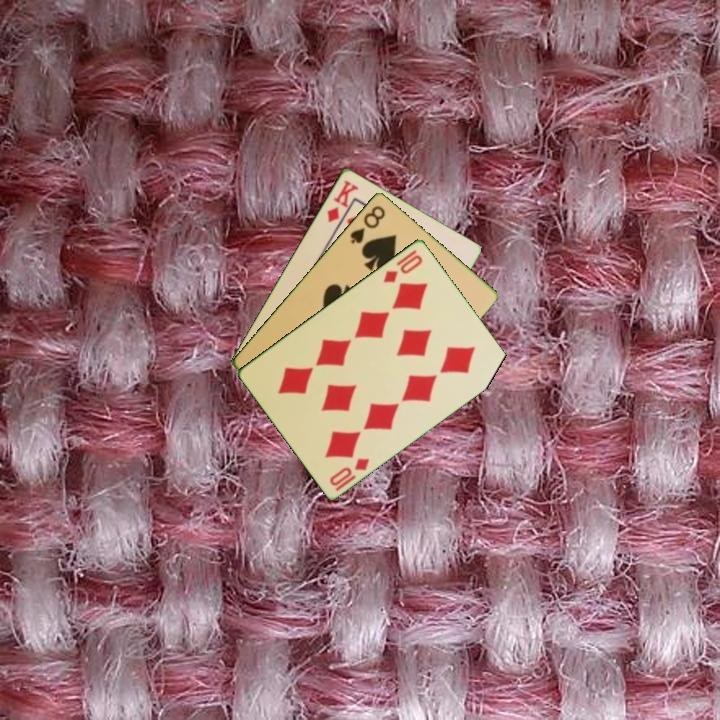10d: (380, 251, 426, 285), (326, 454, 372, 488)
8s: (346, 201, 388, 247)
Kd: (323, 176, 361, 225)
